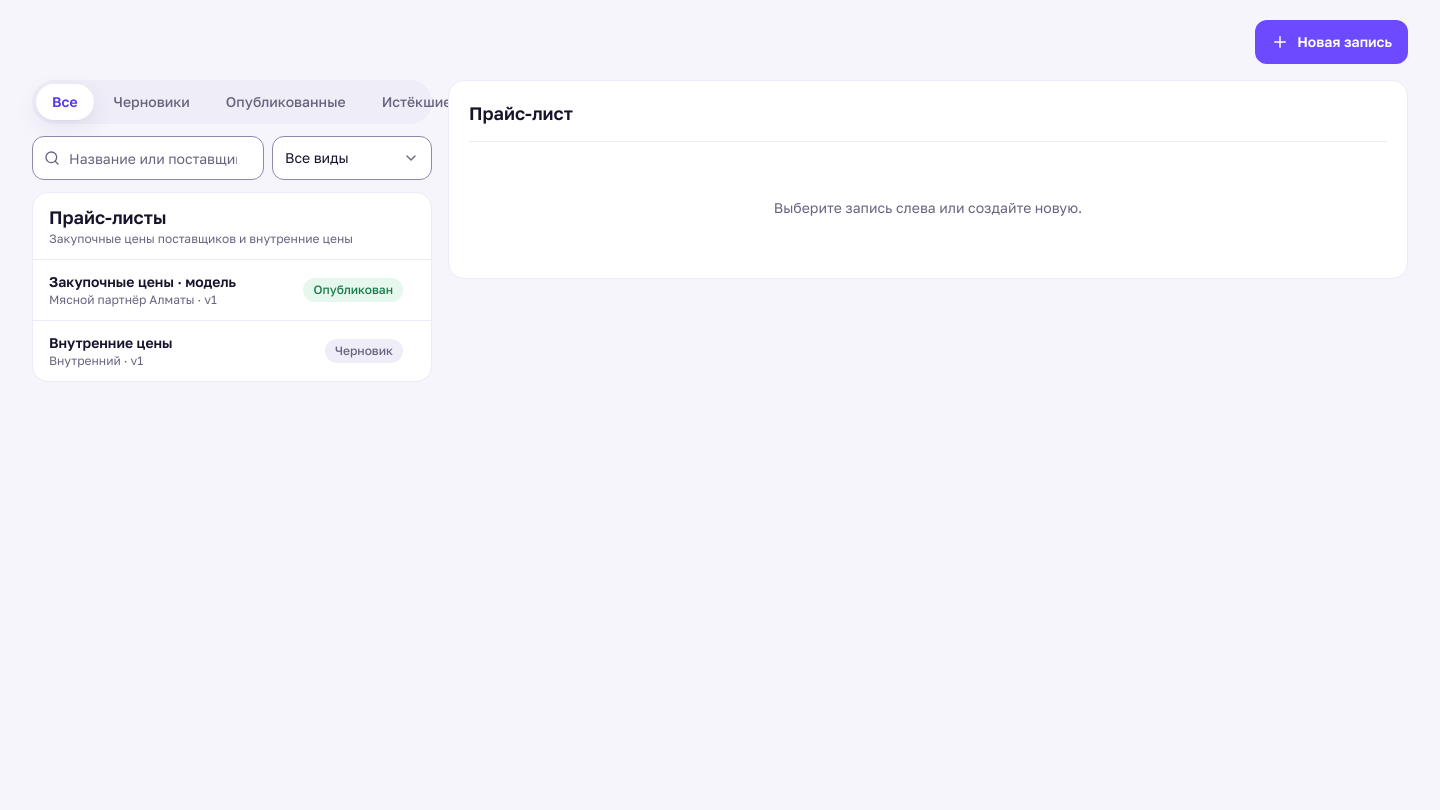
Test: «Прайс-листы» (W2-CAT-15, office/15) › saving a published version opens the next draft and selects it
Click the text "Закупочные цены · модель" at (143, 282), box [49,273,236,290]
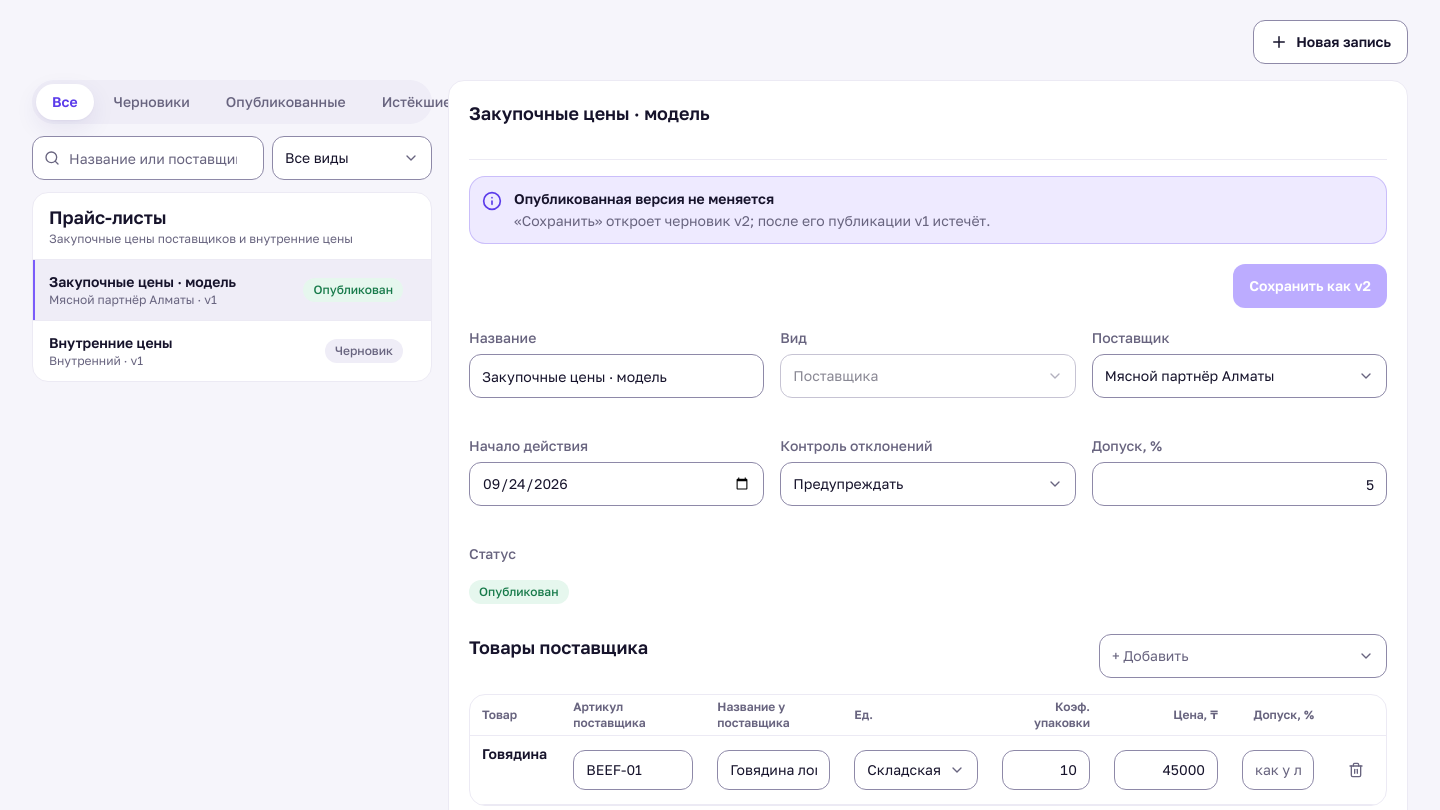
Result: the text "Опубликованная версия не меняется" is shown at [514,190,774,207]
Result: the text "«Сохранить» откроет черновик v2" is shown at [514,212,990,229]
Replace the text in the field named "Цена — Говядина" with "47000" at (1166, 770), box [1114,750,1218,790]
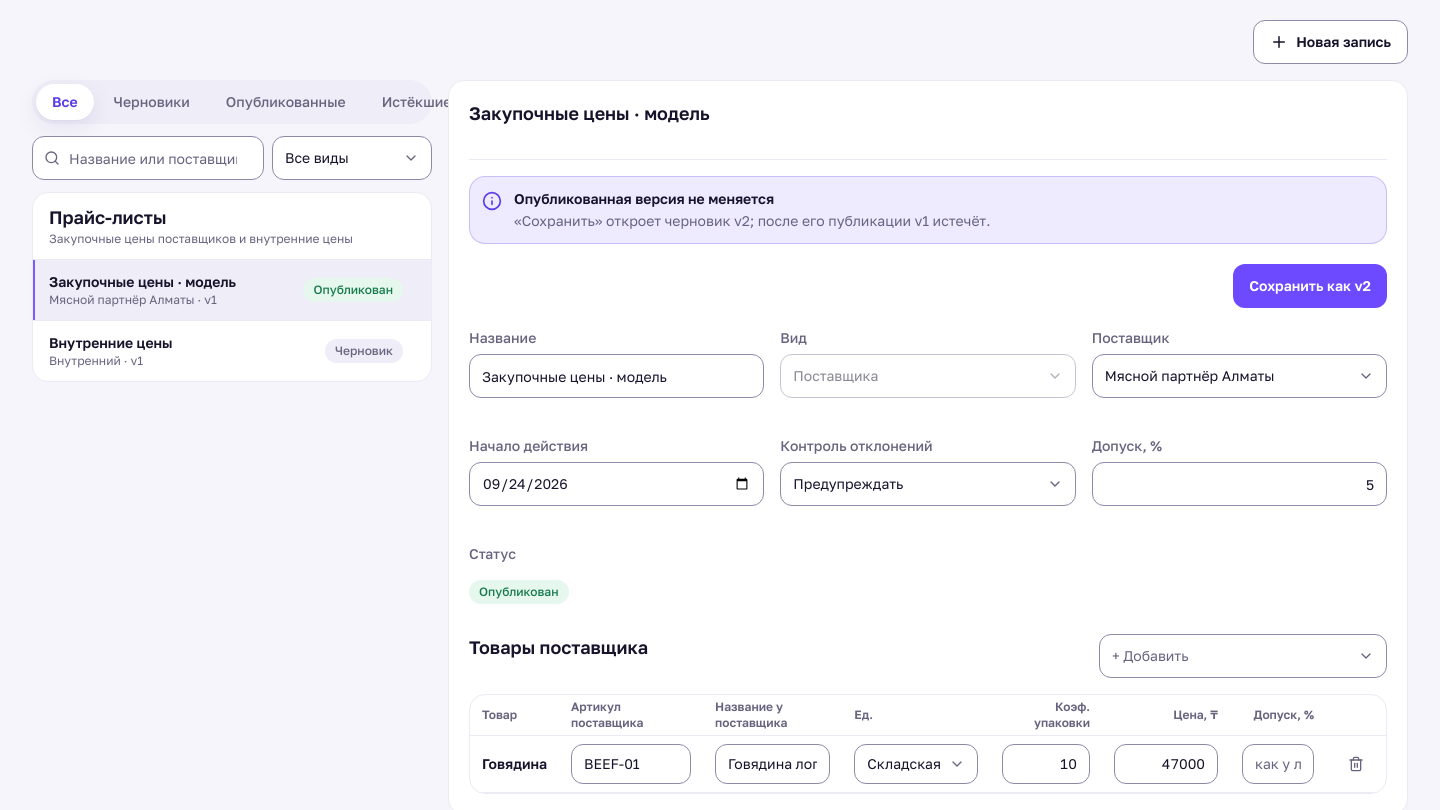
Click the button "Сохранить как v2" at (1310, 286), box [1233,264,1387,308]
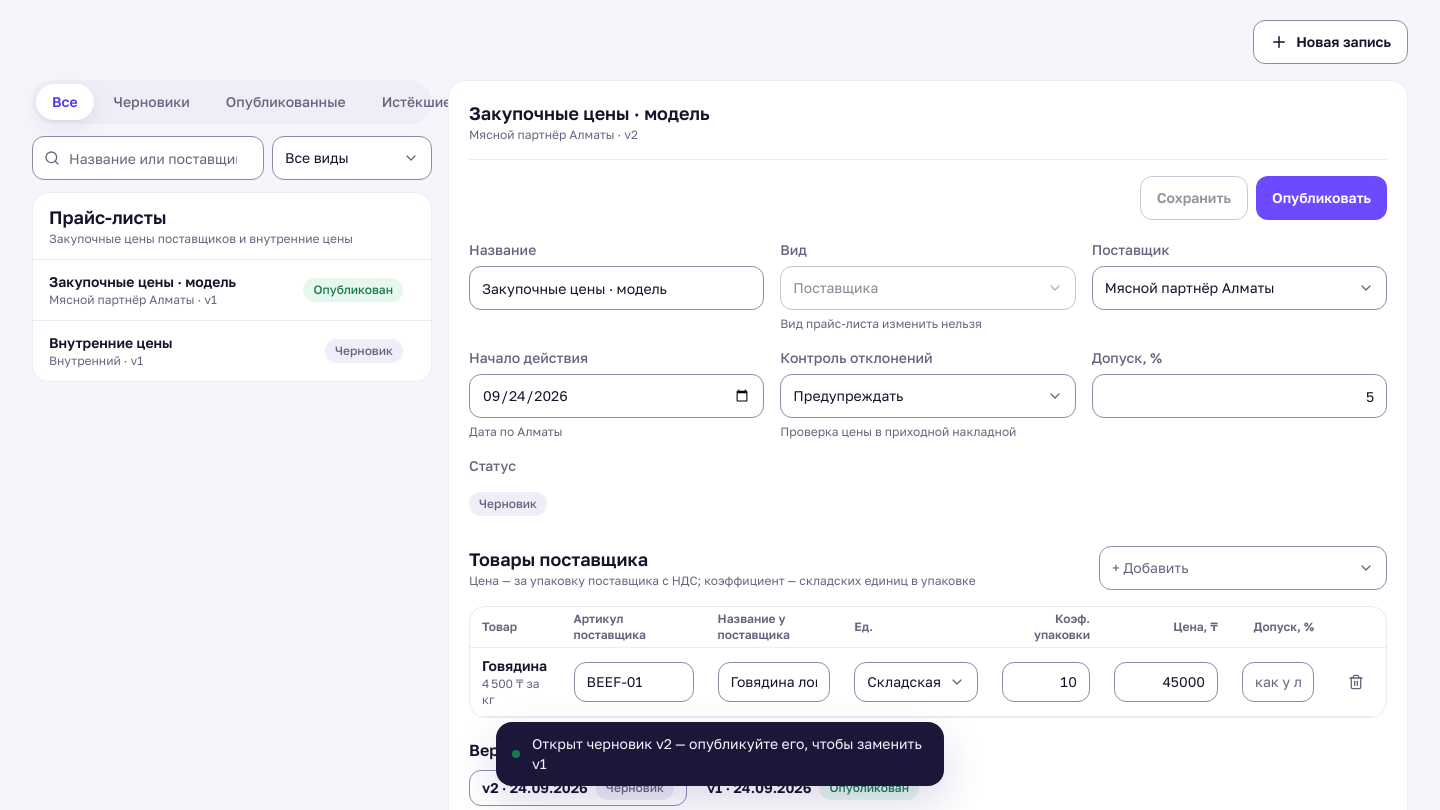
Result: the text "Открыт черновик v2 — опубликуйте его, чтобы заменить v1" is shown at [496,722,944,786]
Result: the button "Опубликовать" is shown at [1256,176,1387,220]
Result: the element "Версии" is shown at [469,740,931,806]
